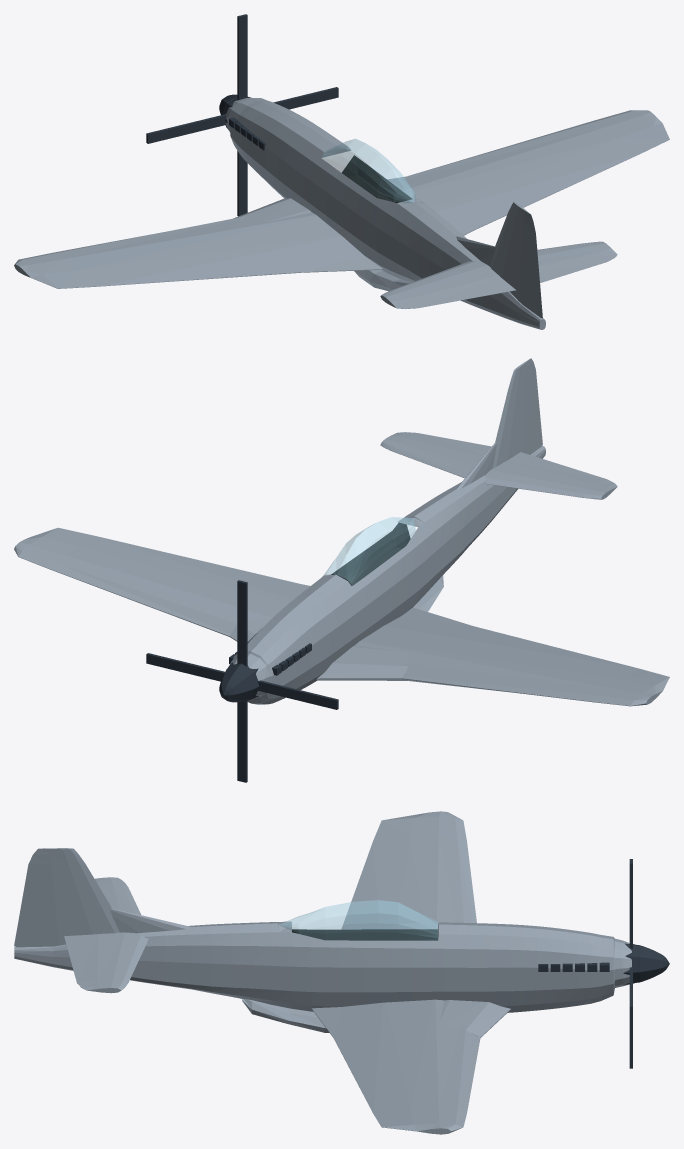
3 views of the same model, one above another, from view 1: azimuth 30°, elevation 25°; view 2: azimuth 150°, elevation 25°; view 3: azimuth 270°, elevation 25° (orthographic). The views are drawn at different scales.
Parts seen in each view (by area): view 1: Mesh_23, Mesh_0, Mesh_25, Mesh_4, Mesh_2, Mesh_24, Mesh_1, P51_Prop.001, P51_Prop, Mesh_3, P51_Prop.003, P51_Prop.002 (+1 smaller); view 2: Mesh_23, Mesh_0, Mesh_25, Mesh_4, Mesh_24, Mesh_2, Mesh_1, Spinner, P51_Prop.001, P51_Prop, P51_Prop.003, P51_Prop.002; view 3: Mesh_0, Mesh_23, Mesh_4, Mesh_2, Mesh_25, Mesh_24, Mesh_1, Mesh_3, Spinner, Mesh_5.
Boxes of the visible parts, x1,y1,x2,y2 form: Mesh_23: (14, 110, 669, 288); Mesh_0: (226, 97, 545, 329); Mesh_25: (380, 241, 617, 308); Mesh_4: (490, 202, 542, 318); Mesh_2: (321, 139, 415, 202); Mesh_24: (233, 176, 473, 272); Mesh_1: (342, 155, 412, 202); P51_Prop.001: (146, 114, 226, 143); P51_Prop: (237, 14, 247, 99); Mesh_3: (354, 270, 411, 291); P51_Prop.003: (273, 87, 338, 109); P51_Prop.002: (237, 151, 247, 216); Mesh_23: (14, 527, 669, 706); Mesh_0: (230, 445, 545, 704); Mesh_25: (380, 432, 617, 499); Mesh_4: (492, 358, 542, 468); Mesh_24: (229, 584, 472, 680); Mesh_2: (322, 517, 415, 585); Mesh_1: (331, 522, 410, 585); Spinner: (219, 662, 259, 702); P51_Prop.001: (257, 680, 338, 709); P51_Prop: (237, 580, 247, 666); P51_Prop.003: (146, 653, 224, 681); P51_Prop.002: (237, 700, 247, 782); Mesh_0: (14, 921, 631, 1012); Mesh_23: (333, 811, 480, 1134); Mesh_4: (14, 848, 119, 947); Mesh_2: (279, 900, 437, 940); Mesh_25: (64, 877, 148, 993); Mesh_24: (311, 1000, 510, 1037); Mesh_1: (292, 929, 437, 940); Mesh_3: (242, 998, 329, 1032); Spinner: (623, 943, 669, 984); Mesh_5: (110, 908, 191, 933).
Size of the model in its own units: 11.28 by 3.61 by 9.87.
